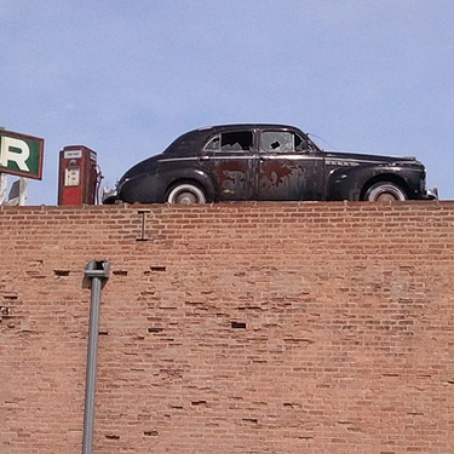car: (106, 114, 429, 210)
gas pump: (56, 143, 106, 209)
sky: (1, 3, 452, 132)
